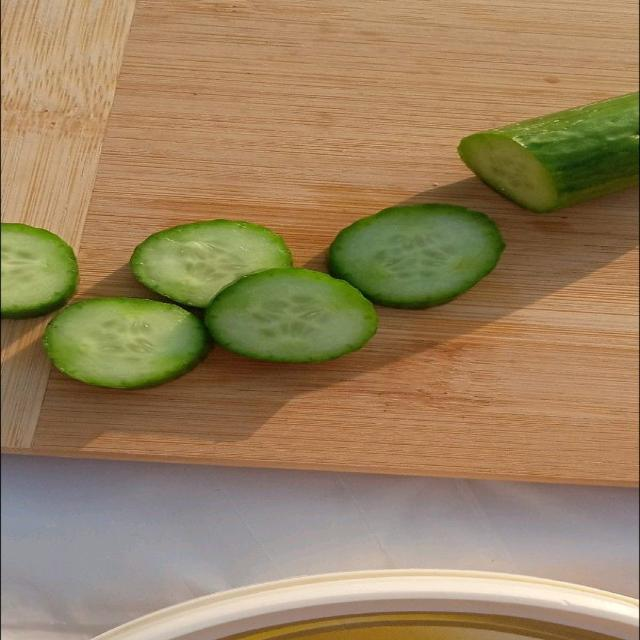cucumber sliced: (458, 93, 638, 212), (330, 204, 504, 308), (206, 268, 376, 362), (44, 298, 209, 388), (130, 220, 291, 307), (0, 223, 78, 318)
